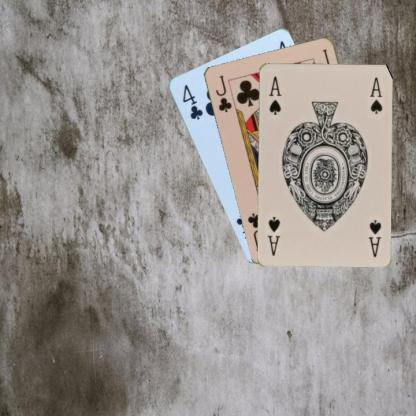4c: (179, 82, 204, 122)
As: (266, 74, 282, 116), (366, 217, 382, 258)
Jc: (212, 72, 233, 113)
